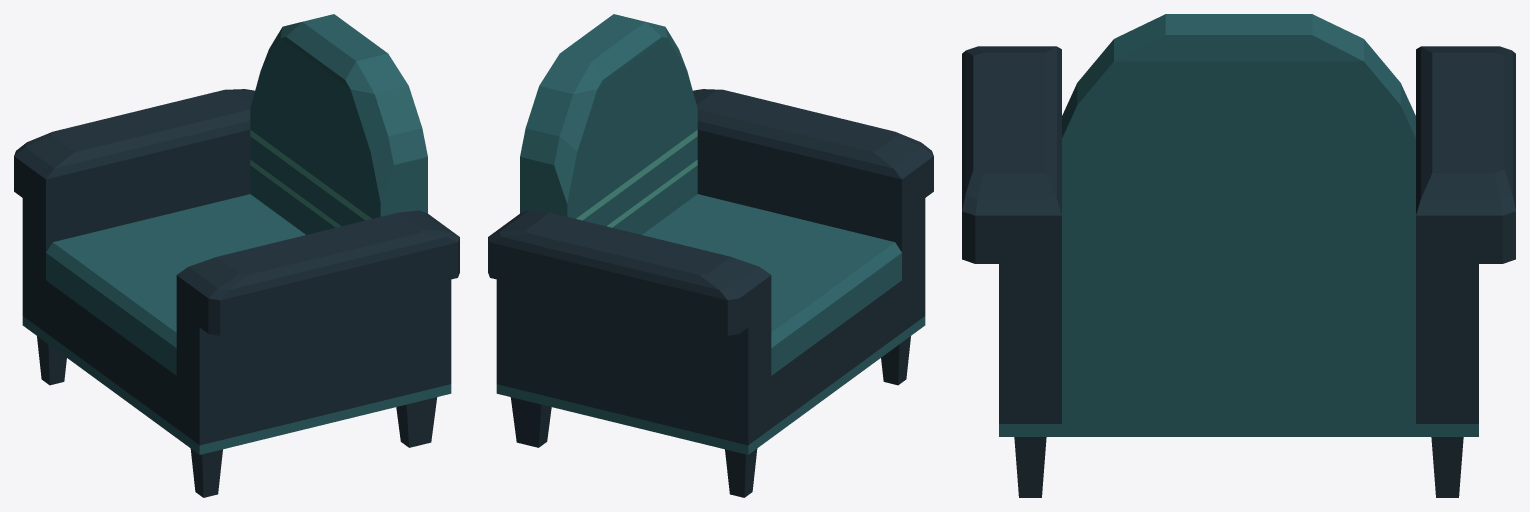
File: Interior_Armchair_Blue.fbx
3 renders of one model, left to right at view 1: azimuth 30°, elevation 25°; view 2: azimuth 150°, elevation 25°; view 3: azimuth 270°, elevation 25°, orthographic. The views are drawn at different scales.
Visible parts, largest first — view 1: Cube.238; view 2: Cube.238; view 3: Cube.238.
Boxes of the visible parts, box(x1,y1,x2,y2) form: Cube.238: box(14, 14, 459, 497); Cube.238: box(488, 14, 933, 497); Cube.238: box(962, 14, 1515, 497).
Size of the model in its own units: 65.5 by 86.29 by 92.14.
